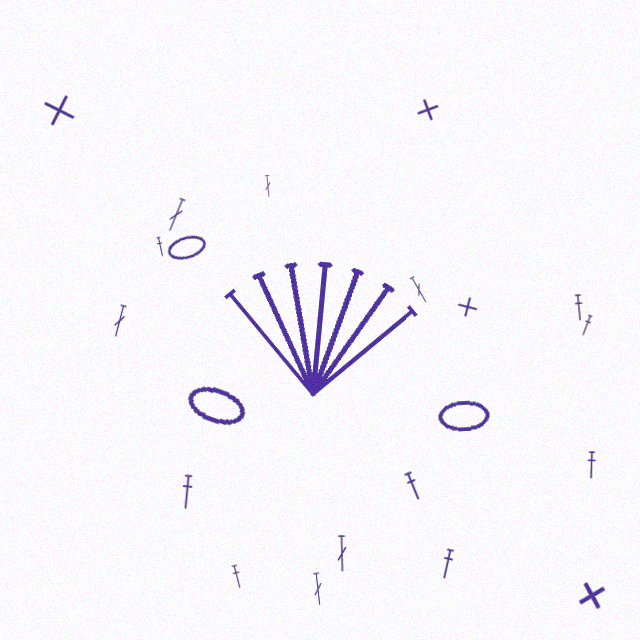chain: (182, 379, 251, 433), (437, 399, 491, 432), (165, 231, 209, 264)
double: (164, 197, 188, 233), (110, 304, 129, 338), (408, 275, 430, 304), (311, 572, 325, 606), (336, 535, 348, 572), (264, 175, 272, 197)
fan: (209, 233, 430, 407)
half_double: (402, 470, 424, 502), (438, 548, 456, 580), (179, 474, 195, 510), (230, 564, 244, 589), (579, 314, 594, 337), (573, 294, 585, 321), (586, 451, 597, 479), (155, 236, 166, 257)
single: (38, 89, 80, 131), (574, 577, 609, 613), (413, 95, 442, 124), (454, 293, 481, 320)
